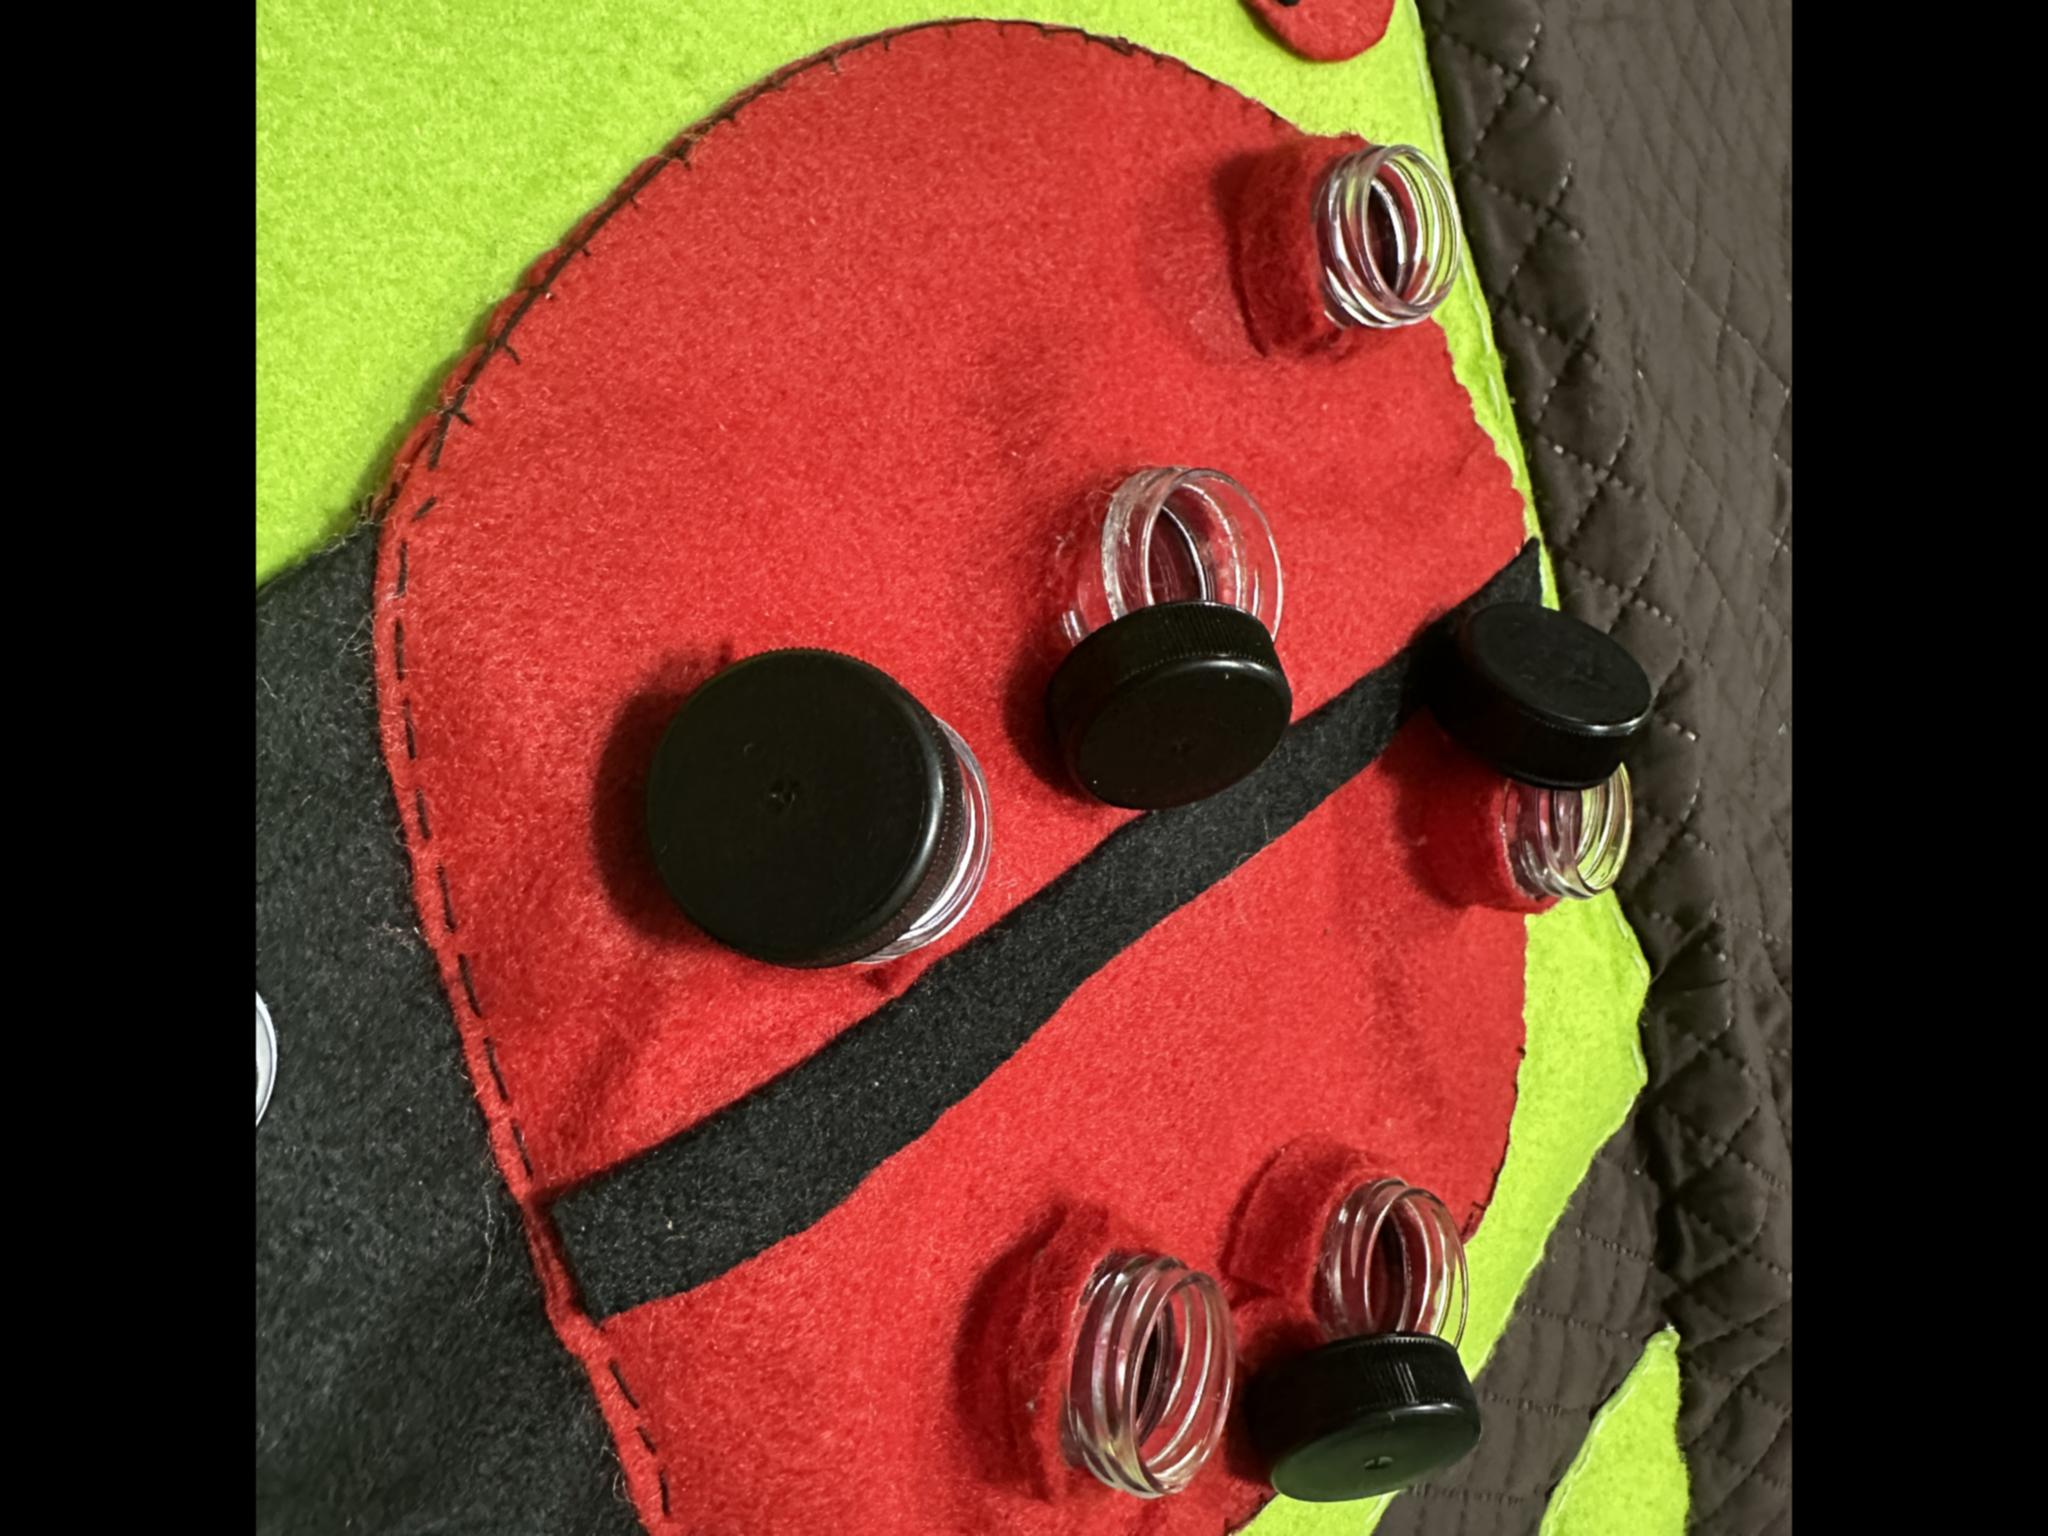cap_ng: (613, 626, 998, 1007), (1011, 463, 1306, 858), (1213, 1150, 1508, 1518), (1380, 599, 1659, 937)
